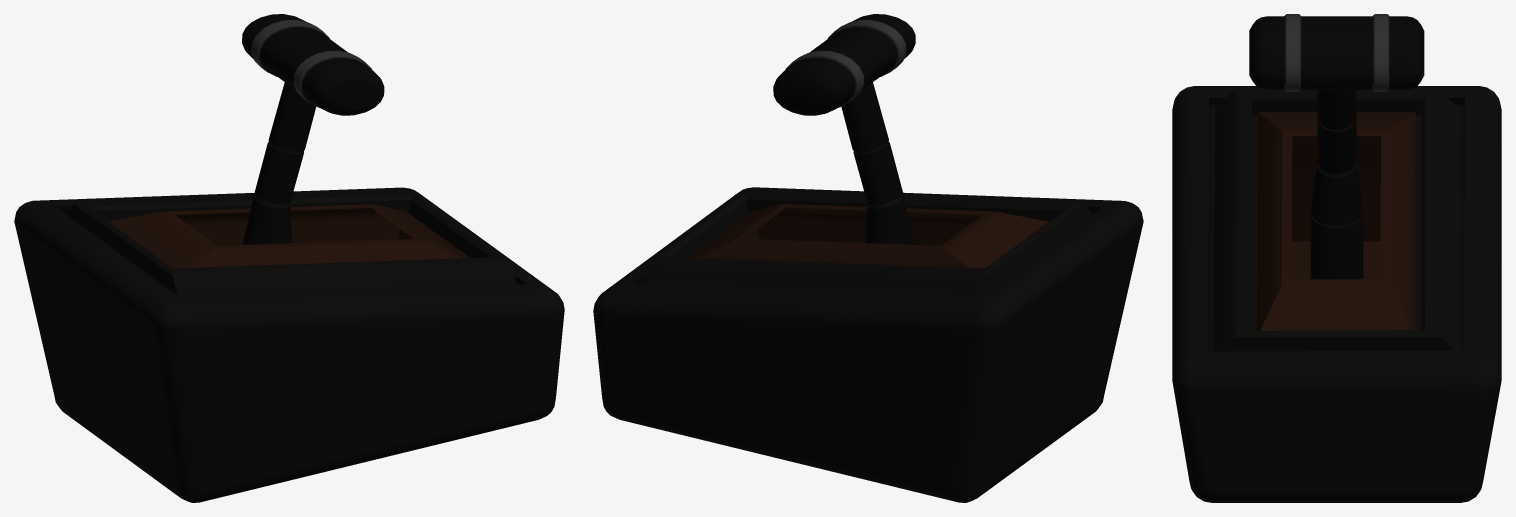
File: Girspak_01.fbx
The picture shows the model from 3 angles, left to right: view 1: azimuth 30°, elevation 25°; view 2: azimuth 150°, elevation 25°; view 3: azimuth 270°, elevation 25°; orthographic projection. The views are drawn at different scales.
Visible parts, largest first — view 1: Girspak_01; view 2: Girspak_01; view 3: Girspak_01.
Boxes of the visible parts, x1,y1,x2,y2 form: Girspak_01: (14,14,564,502); Girspak_01: (593,14,1143,502); Girspak_01: (1172,14,1501,502).
Bounding box in the file's own units: 1.62 × 1.43 × 1.08.
